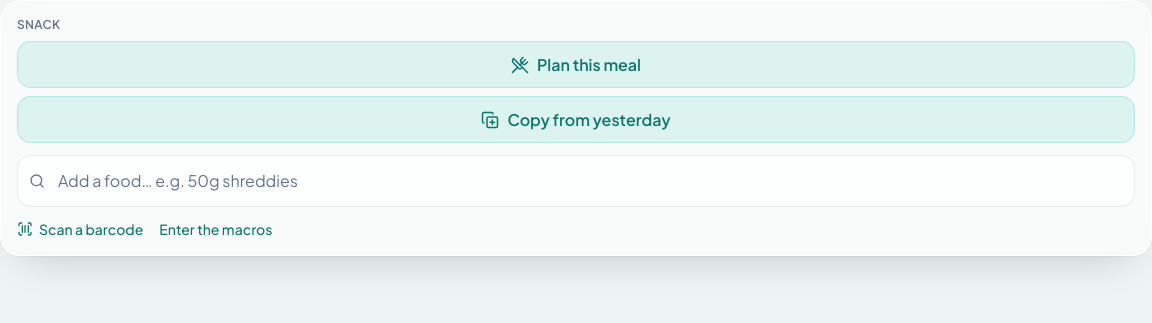
meal builder, foods with no barcode › offers a reference food for a name that has no barcode
Type "cake" into the field with placeholder "Add a food… e.g. 50g shreddies" at (576, 181), box [17,155,1135,207]
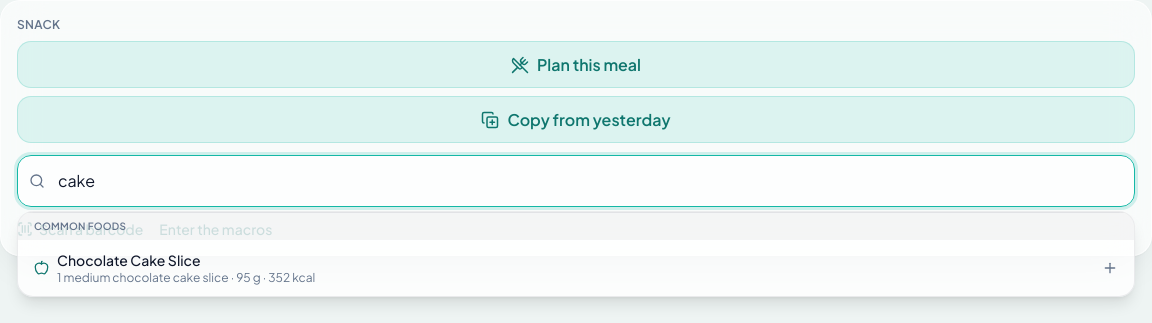
Expected: the text "Chocolate Cake Slice" is shown, [57,251,201,269]
